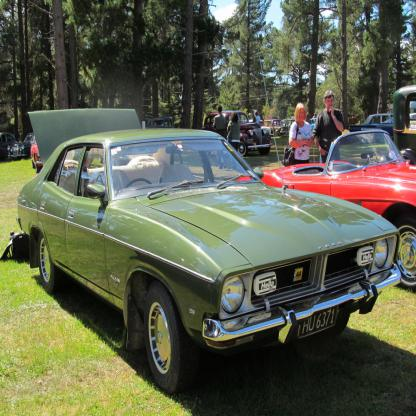Car: (0, 14, 416, 395)
